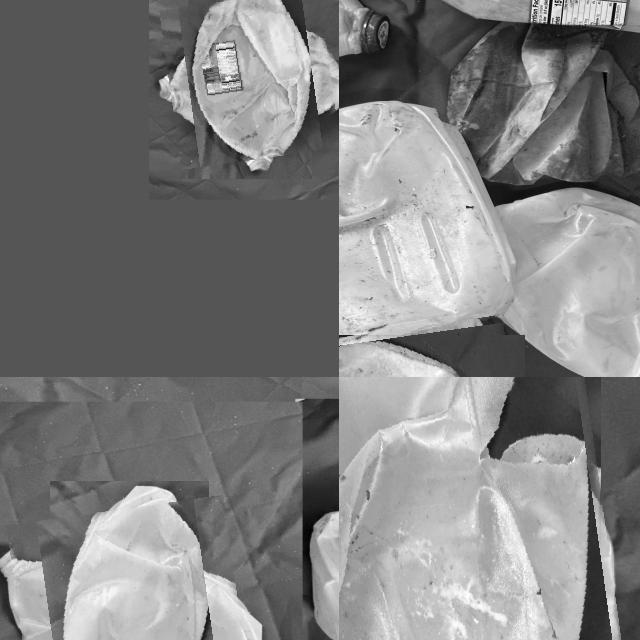milk-jug: (339, 377, 623, 640), (339, 85, 510, 363), (421, 23, 640, 183), (13, 501, 246, 640), (482, 189, 640, 377), (164, 0, 335, 164), (339, 320, 523, 377)
